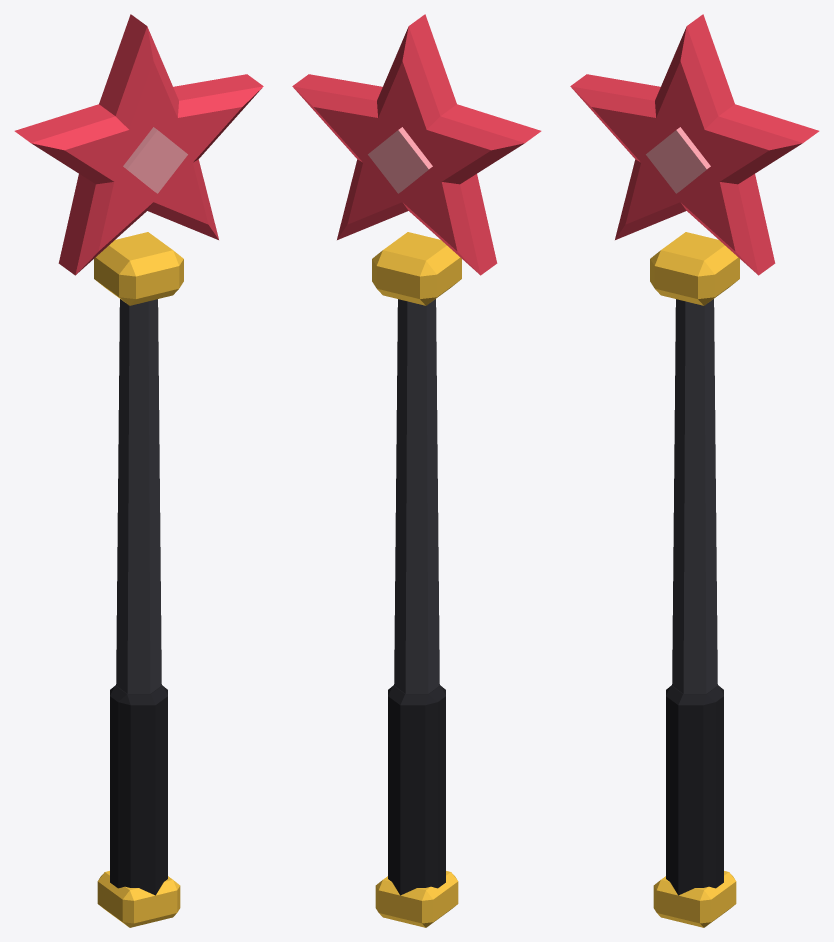
Rendered from RubyWand.fbx.
The picture shows the model from 3 angles, left to right: view 1: azimuth 30°, elevation 25°; view 2: azimuth 150°, elevation 25°; view 3: azimuth 330°, elevation 25°; orthographic projection.
Parts seen in each view (by area): view 1: RubyWand; view 2: RubyWand; view 3: RubyWand.
Boxes of the visible parts, <box> form: RubyWand: <box>14,14,263,927</box>; RubyWand: <box>292,14,541,927</box>; RubyWand: <box>570,14,819,927</box>.
Size of the model in its own units: 0.6467 by 2.37 by 0.18.
Materials: 1 (1 with a texture image).
